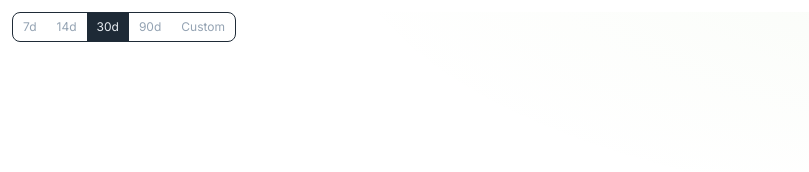
Test: DateRangeControl › rejects a span over maxDays
The width and height of the screenshot is (809, 172).
Click the button "Custom".
click(203, 27)  # box [171,13,235,41]
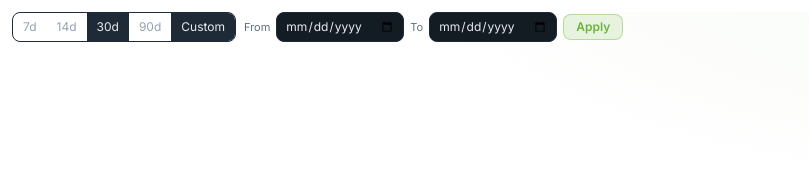
Type "2026-01-01" into the date field labelled "From".
click(340, 27); type("2026-01-01")  # box [276,12,404,42]
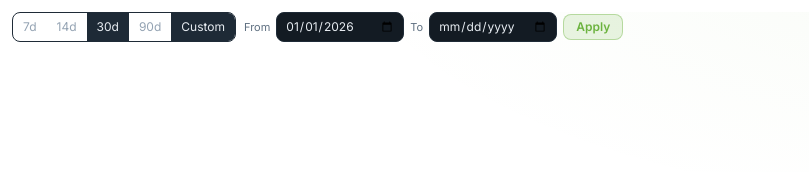
Type "2026-10-10" into the date field labelled "To".
click(493, 27); type("2026-10-10")  # box [429,12,557,42]
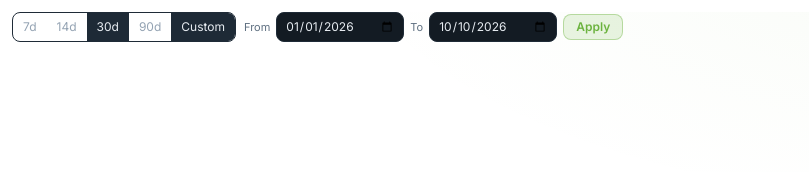
Click the button "Apply".
click(593, 27)  # box [563,14,623,40]
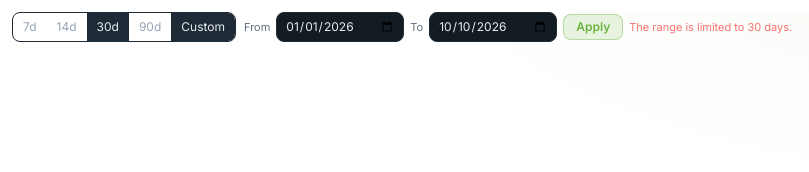
Now the message shows "limited to 30 days", box [629,20,792,34]
